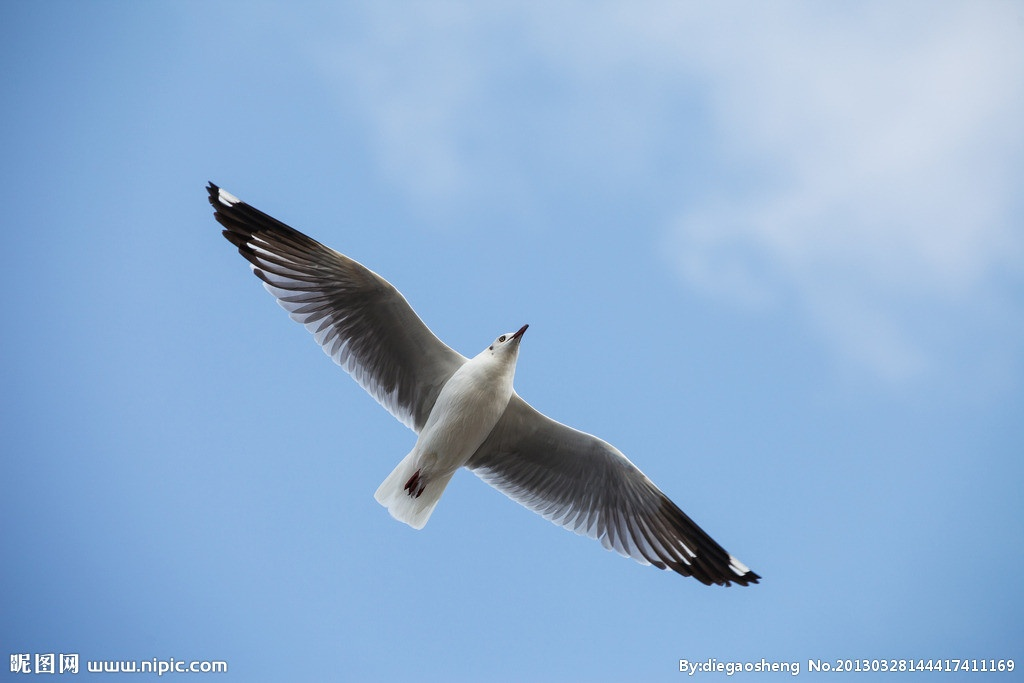bird: (198, 175, 763, 593)
